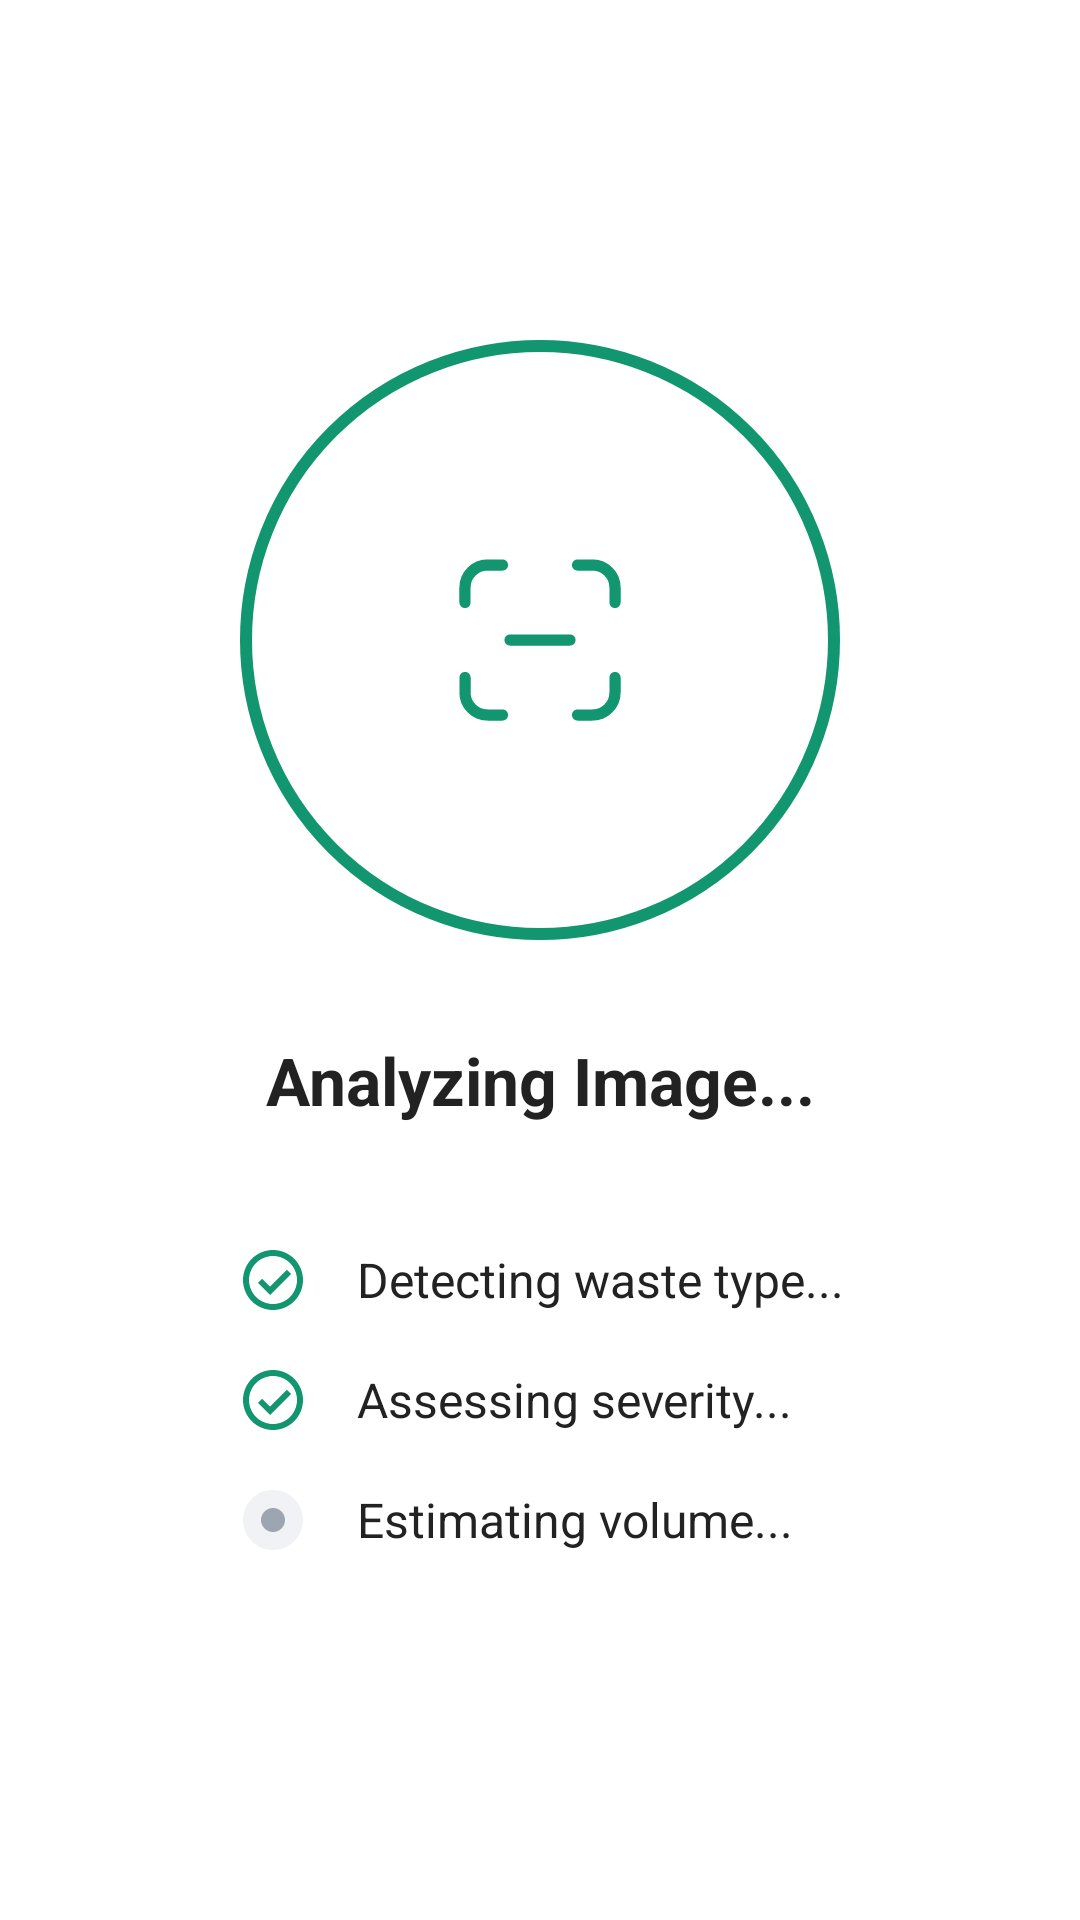

Named icons in this screenshot (1080x1920) and their centers, [x,y]:
check circle: [273,1280], [273,1400]
scan focus: [540,640]
